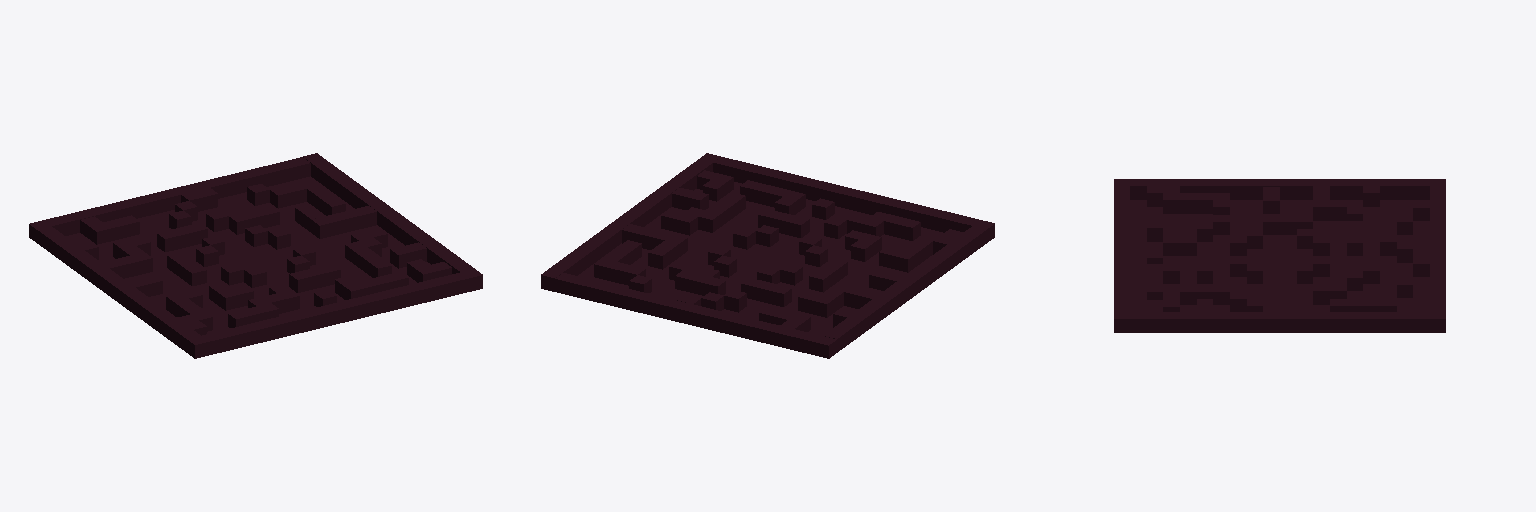
File: cubemap.obj
3 views of the same model, side by side, from view 1: azimuth 30°, elevation 25°; view 2: azimuth 150°, elevation 25°; view 3: azimuth 270°, elevation 25° (orthographic).
Visible parts, largest first — view 1: Maze; view 2: Maze; view 3: Maze.
Boxes of the visible parts, box(x1,y1,x2,y2) form: Maze: box(29, 153, 482, 358); Maze: box(541, 153, 994, 358); Maze: box(1114, 179, 1445, 332).
Size of the model in its own units: 20 by 0.9115 by 20.